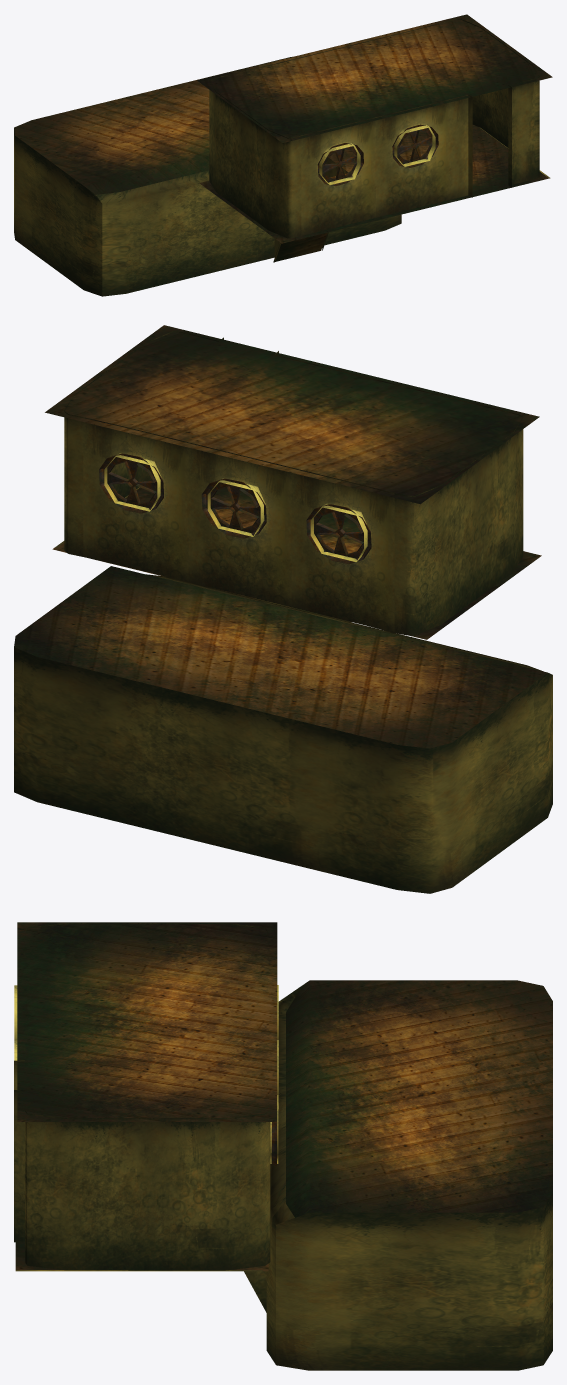
The model's file is CasaInteriorSotano.fbx.
3 views of the same model, one above another, from view 1: azimuth 30°, elevation 25°; view 2: azimuth 150°, elevation 25°; view 3: azimuth 270°, elevation 25° (orthographic). The views are drawn at different scales.
Parts seen in each view (by area): view 1: CasaSotano2; view 2: CasaSotano2; view 3: CasaSotano2.
Part boxes in pixels (<box>): CasaSotano2: <box>14,14,552,296</box>; CasaSotano2: <box>14,325,552,893</box>; CasaSotano2: <box>14,922,552,1370</box>.
Bounding box in the file's own units: 5.38 × 2.75 × 4.45.
